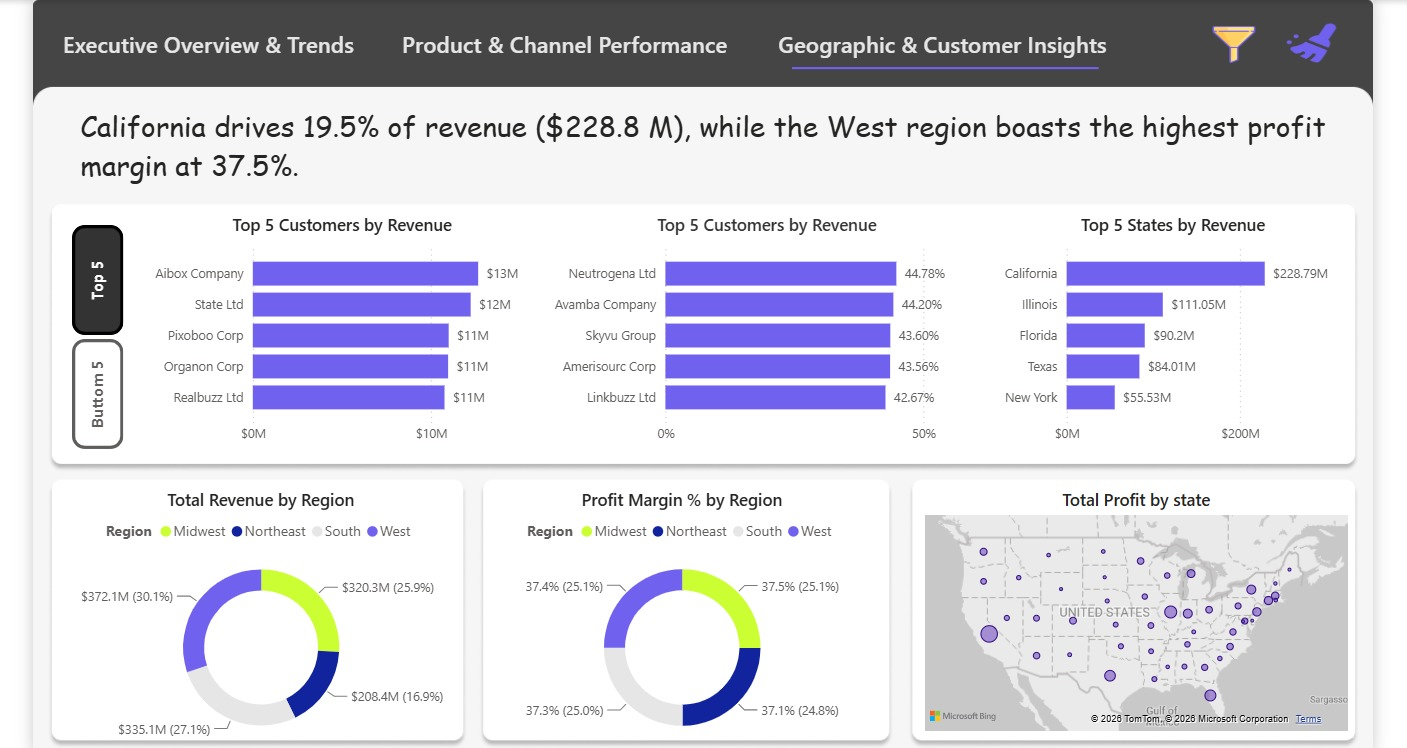

What the dashboard file says about the page in this screenshot:
{"tool":"powerbi","page":{"name":"Geographic & Customer Insights","canvas":[1280,720],"ordinal":2},"visuals":[{"type":"barChart","title":"Top 5 States by Revenue","fields":{"Category":["Sales_data.state_name"],"Y":["Measures_.Total Revenue"]},"box":[917,203.4,344.1,228.8],"z":0,"group":"g2"},{"type":"actionButton","box":[37,215,49,105],"z":0,"group":"g1"},{"type":"donutChart","title":"Total Revenue by Region","fields":{"Category":["Sales_data.us_region"],"Y":["Measures_.Total Revenue"]},"box":[20.3,466.1,394.9,254.2],"z":0},{"type":"barChart","title":"Top 5 Customers by Revenue","fields":{"Category":["Sales_data.customer_name"],"Y":["Measures_.Profit Margin %"]},"box":[486.5,203.4,430.5,228.8],"z":1000,"group":"g2"},{"type":"actionButton","box":[36.7,323.3,49,105],"z":1000,"group":"g1"},{"type":"donutChart","title":"Profit Margin % by Region","fields":{"Category":["Sales_data.us_region"],"Y":["Measures_.Profit Margin %"]},"box":[415.3,466.1,408.5,254.2],"z":1000},{"type":"actionButton","box":[337.2,14.1,342.3,55.1],"z":2000},{"type":"barChart","title":"Top 5 Customers by Revenue","fields":{"Category":["Sales_data.customer_name"],"Y":["Measures_.Total Revenue"]},"box":[105.1,203.4,381.4,228.8],"z":2000,"group":"g2"},{"type":"actionButton","box":[9,14.1,317.9,55.1],"z":3000},{"type":"actionButton","box":[702.6,14.1,333.3,55.1],"z":4000},{"type":"group","id":"g1","title":"top 5 button","box":[36.7,215,48.3,213.3],"z":6000},{"type":"map","fields":{"Category":["Sales_data.state"],"Size":["Measures_.Total Profit"]},"box":[846.9,465.7,413.8,237.7],"z":7000},{"type":"group","id":"g2","title":"top 5","box":[105.1,203.4,1155.9,228.8],"z":9000},{"type":"textbox","title":"Top Text","box":[40,96.2,1222.5,120],"z":11000},{"type":"actionButton","box":[1188,14,70,55],"z":12000},{"type":"actionButton","box":[1120,21,53,42],"z":13000}]}

Visuals, with their boxes on the page's 1280x720 design canvas (x1, y1, x2, y2). These are canvas units, not pixel positions in the 1407x748 screenshot, which may show the page scaled, cropped or inside an application window:
"Top 5 States by Revenue" barChart: bbox=[917, 203, 1261, 432]
actionButton: bbox=[37, 215, 86, 320]
"Total Revenue by Region" donutChart: bbox=[20, 466, 415, 720]
"Top 5 Customers by Revenue" barChart: bbox=[486, 203, 917, 432]
actionButton: bbox=[37, 323, 86, 428]
"Profit Margin % by Region" donutChart: bbox=[415, 466, 824, 720]
actionButton: bbox=[337, 14, 680, 69]
"Top 5 Customers by Revenue" barChart: bbox=[105, 203, 486, 432]
actionButton: bbox=[9, 14, 327, 69]
actionButton: bbox=[703, 14, 1036, 69]
"top 5 button" group: bbox=[37, 215, 85, 428]
map - Sales_data.state x Measures_.Total Profit: bbox=[847, 466, 1261, 703]
"top 5" group: bbox=[105, 203, 1261, 432]
"Top Text" textbox: bbox=[40, 96, 1262, 216]
actionButton: bbox=[1188, 14, 1258, 69]
actionButton: bbox=[1120, 21, 1173, 63]
